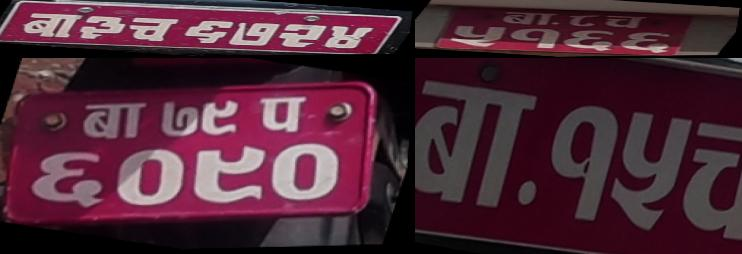0: (262, 135, 356, 213), (106, 143, 196, 216)
1: (532, 89, 632, 234), (499, 26, 571, 50)
2: (271, 21, 331, 51)
3: (71, 14, 133, 43)
4: (315, 24, 383, 54)
5: (600, 100, 698, 243), (438, 22, 514, 48)
6: (16, 137, 122, 215), (171, 17, 240, 47), (555, 27, 629, 53), (615, 30, 685, 54)
7: (149, 97, 205, 144), (222, 20, 285, 50)
8: (558, 12, 608, 28)
9: (181, 137, 280, 213), (193, 94, 248, 144)
ba: (415, 64, 549, 231), (73, 90, 153, 148), (5, 10, 90, 40), (492, 10, 562, 27)
cha: (664, 109, 742, 254), (116, 14, 186, 45), (596, 12, 658, 32)
pa: (248, 87, 317, 142)
